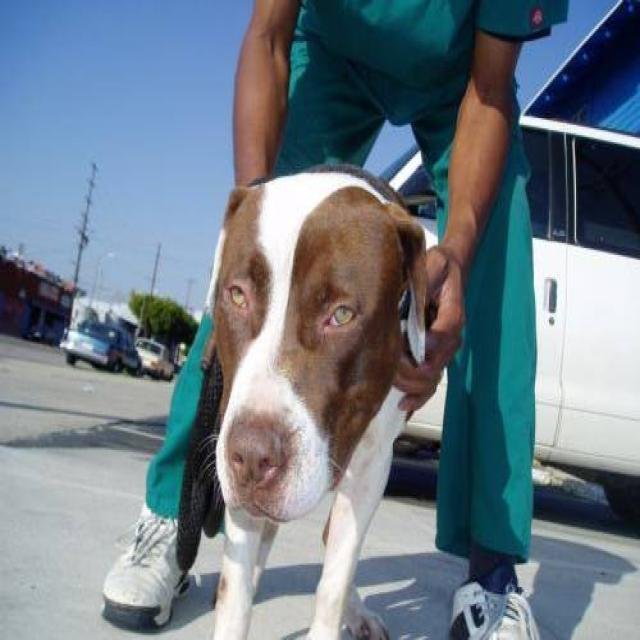dog: (174, 161, 439, 638)
